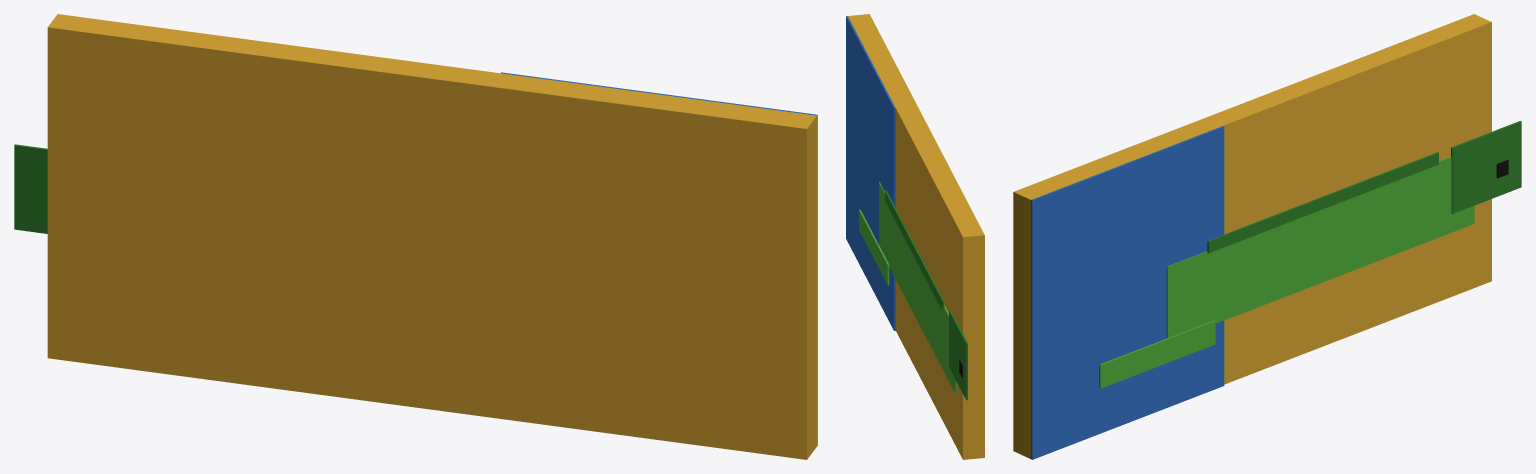
File: sn_iguana.glb
3 views of the same model, side by side, from view 1: azimuth 30°, elevation 25°; view 2: azimuth 150°, elevation 25°; view 3: azimuth 270°, elevation 25° (orthographic). The views are drawn at different scales.
Visible parts, largest first — view 1: sn_iguana_lod0; view 2: sn_iguana_lod0; view 3: sn_iguana_lod0.
Part boxes in pixels (x1,y1,x2,y2): sn_iguana_lod0: (14,14,817,459); sn_iguana_lod0: (846,14,984,459); sn_iguana_lod0: (1013,14,1521,459).
Size of what is drawn, in the model's own units: 8.56 by 5.5 by 9.77.
